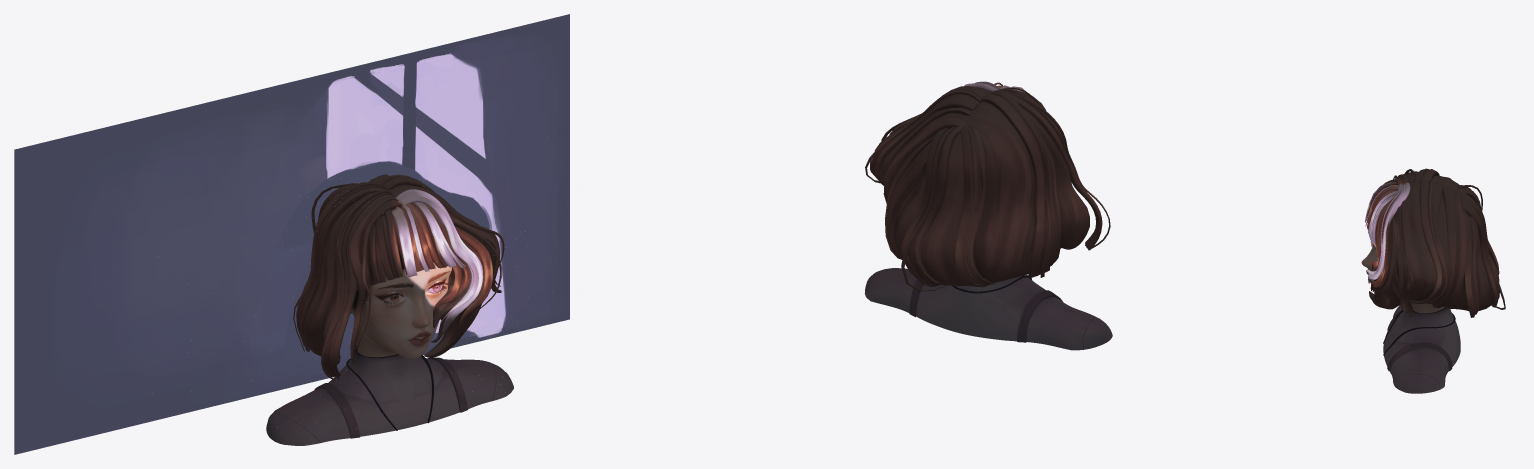
The picture shows the model from 3 angles, left to right: view 1: azimuth 30°, elevation 25°; view 2: azimuth 150°, elevation 25°; view 3: azimuth 270°, elevation 25°; orthographic projection. The views are drawn at different scales.
Visible parts, largest first — view 1: background, hair_strands, transparent_shirt, face, hair_big_chunk, shirt_bands, hair_small_chunk; view 2: hair_strands, hair_big_chunk, transparent_shirt, shirt_bands; view 3: hair_strands, transparent_shirt, hair_big_chunk, shirt_bands, face, necklace.
Part boxes in pixels (<box>): background: <box>14,14,569,454</box>; hair_strands: <box>293,174,504,380</box>; transparent_shirt: <box>266,344,513,445</box>; face: <box>350,247,451,358</box>; hair_big_chunk: <box>303,183,495,364</box>; shirt_bands: <box>314,357,467,438</box>; hair_small_chunk: <box>433,254,471,328</box>; hair_strands: <box>865,81,1110,291</box>; hair_big_chunk: <box>874,87,1089,286</box>; transparent_shirt: <box>864,268,1112,350</box>; shirt_bands: <box>909,279,1062,342</box>; hair_strands: <box>1365,168,1505,317</box>; transparent_shirt: <box>1383,305,1460,393</box>; hair_big_chunk: <box>1369,175,1499,310</box>; shirt_bands: <box>1387,309,1452,371</box>; face: <box>1361,219,1444,313</box>; necklace: <box>1383,310,1455,355</box>.
Size of the model in its own units: 4.7 by 2.47 by 2.32.
